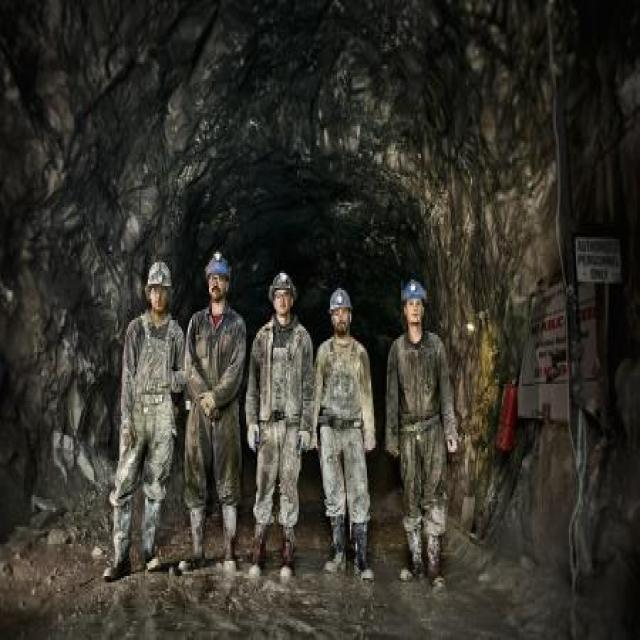helmet: (142, 256, 175, 318), (400, 273, 431, 337), (267, 273, 300, 324), (324, 284, 354, 337), (203, 252, 232, 305)
